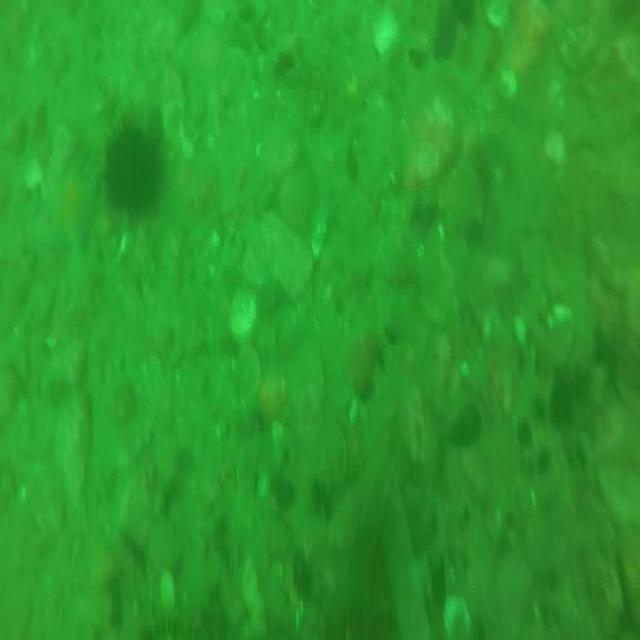echinus: (108, 114, 164, 218)
scallop: (443, 589, 473, 640), (228, 283, 254, 340), (369, 9, 399, 58), (486, 1, 510, 36), (162, 567, 174, 615)
